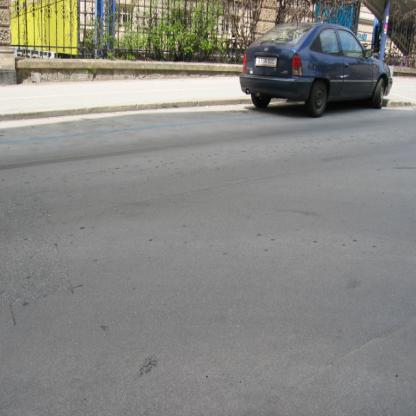car: (240, 25, 394, 119)
